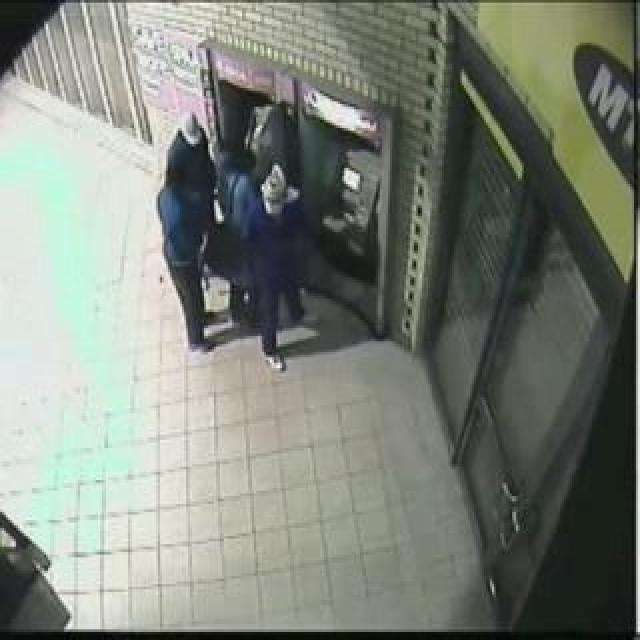thief: (134, 71, 319, 282)
